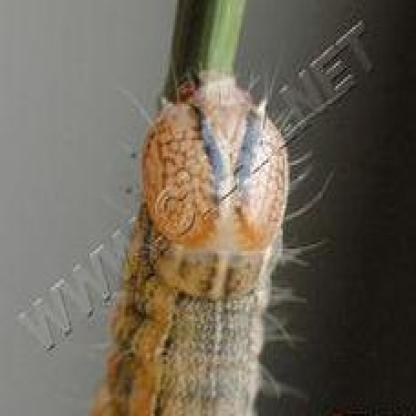armyworm: (90, 66, 312, 414)
